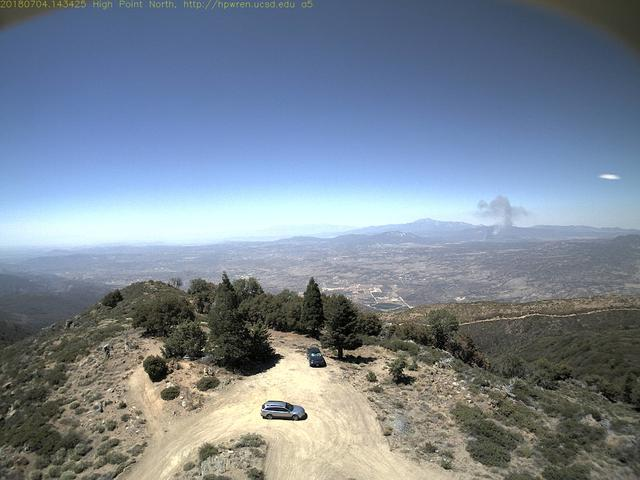smoke: (473, 192, 535, 245)
